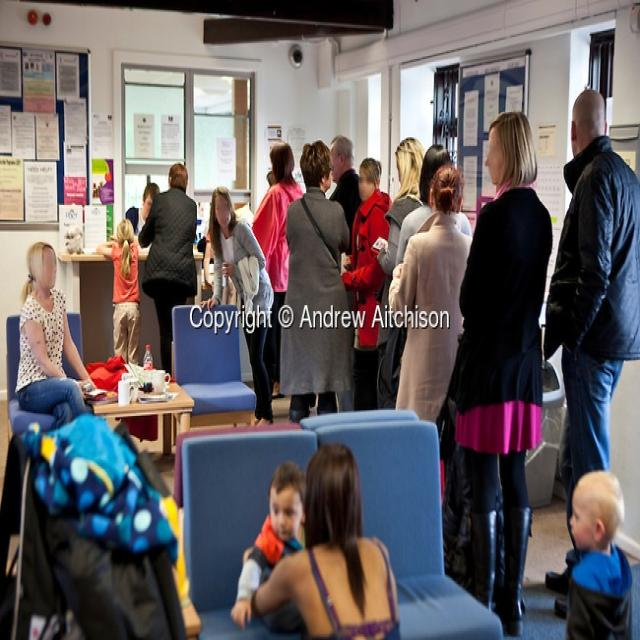body: (450, 109, 554, 639), (540, 80, 639, 624), (239, 441, 403, 640), (387, 162, 474, 423), (278, 140, 352, 426), (198, 184, 277, 438), (13, 240, 98, 432), (339, 152, 396, 413), (248, 137, 304, 400), (374, 136, 426, 412), (230, 460, 308, 637), (137, 161, 200, 379), (564, 467, 633, 640), (394, 142, 474, 268), (94, 217, 144, 367), (327, 131, 363, 258), (124, 180, 162, 237)
